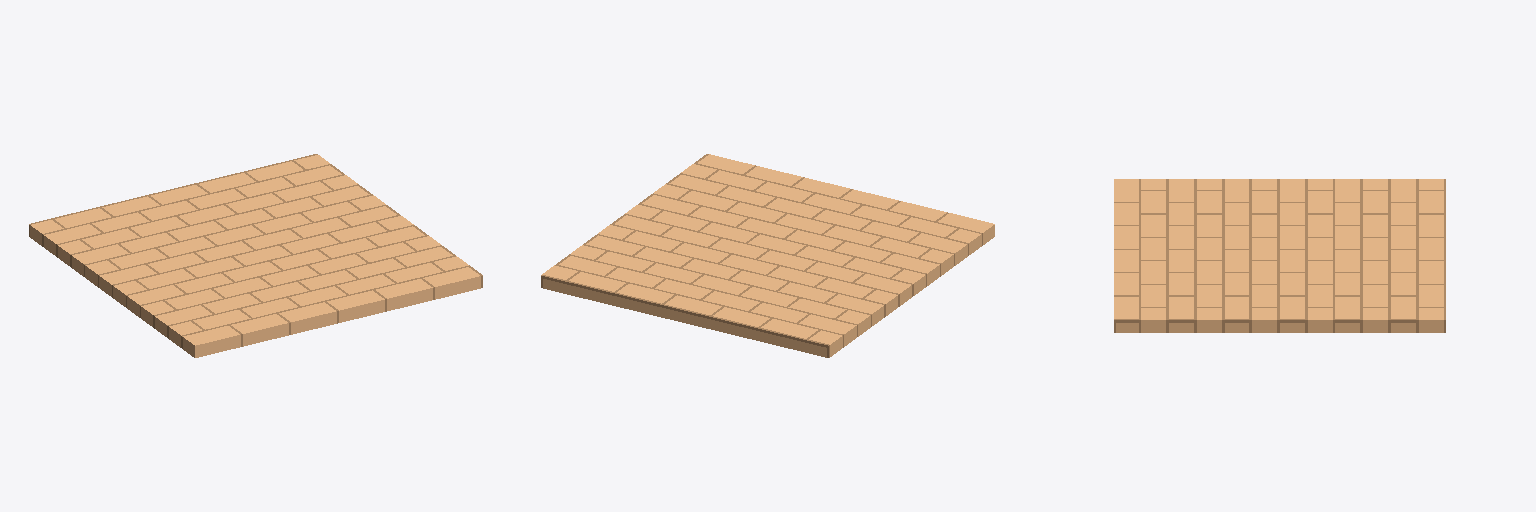
The picture shows the model from 3 angles: view 1: azimuth 30°, elevation 25°; view 2: azimuth 150°, elevation 25°; view 3: azimuth 270°, elevation 25°; orthographic projection.
Visible parts, largest first — view 1: object 1; view 2: object 1; view 3: object 1.
Boxes of the visible parts, box(x1,y1,x2,y2) form: object 1: box(29, 154, 482, 357); object 1: box(541, 154, 994, 357); object 1: box(1114, 179, 1445, 332).
Size of the model in its own units: 12 by 0.5 by 12.
Materials: 1 (1 with a texture image).